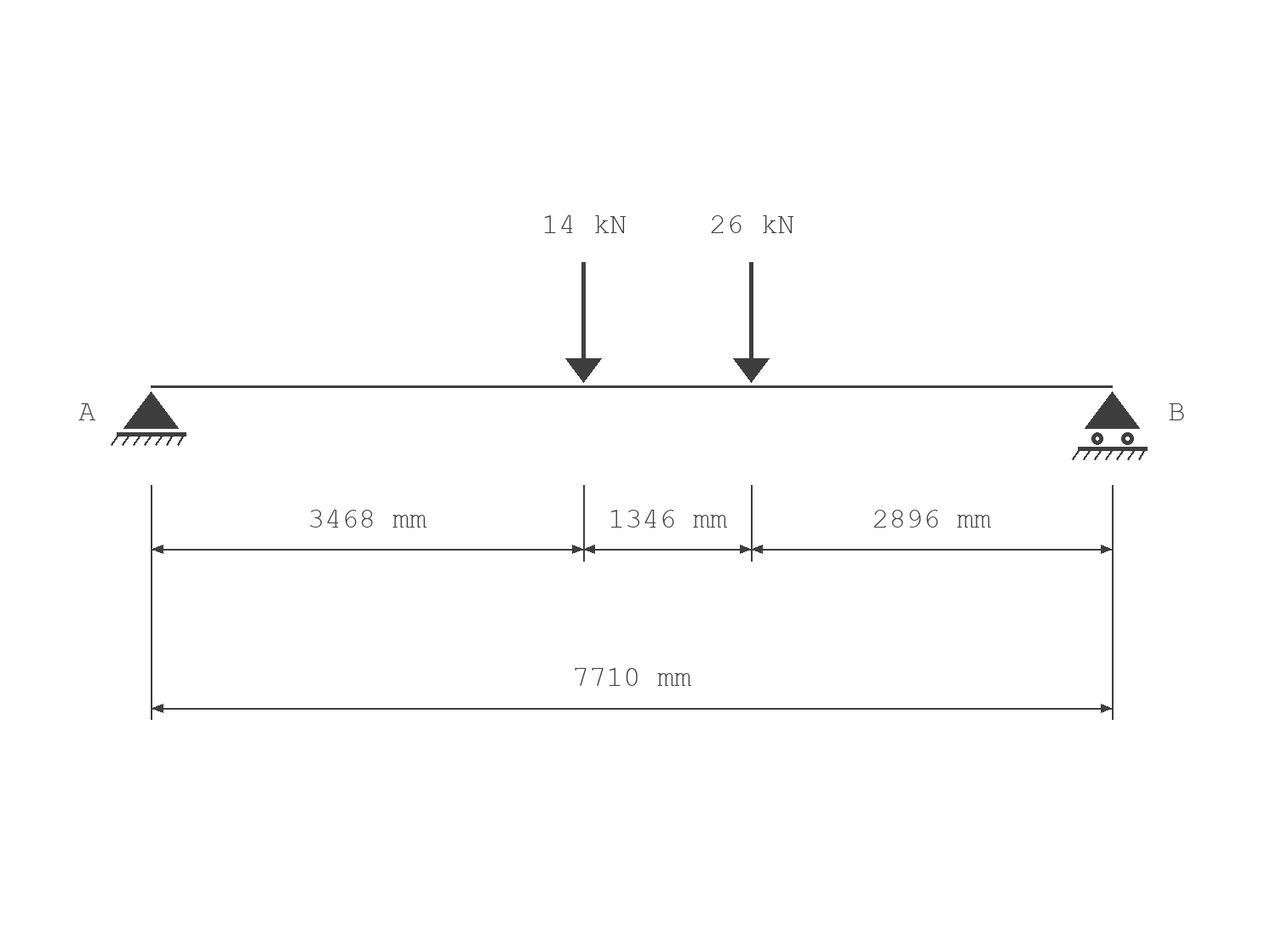pin_support: (111, 391, 186, 446)
point_load: (565, 262, 602, 383), (733, 262, 770, 383)
roller_support: (1072, 391, 1148, 460)
